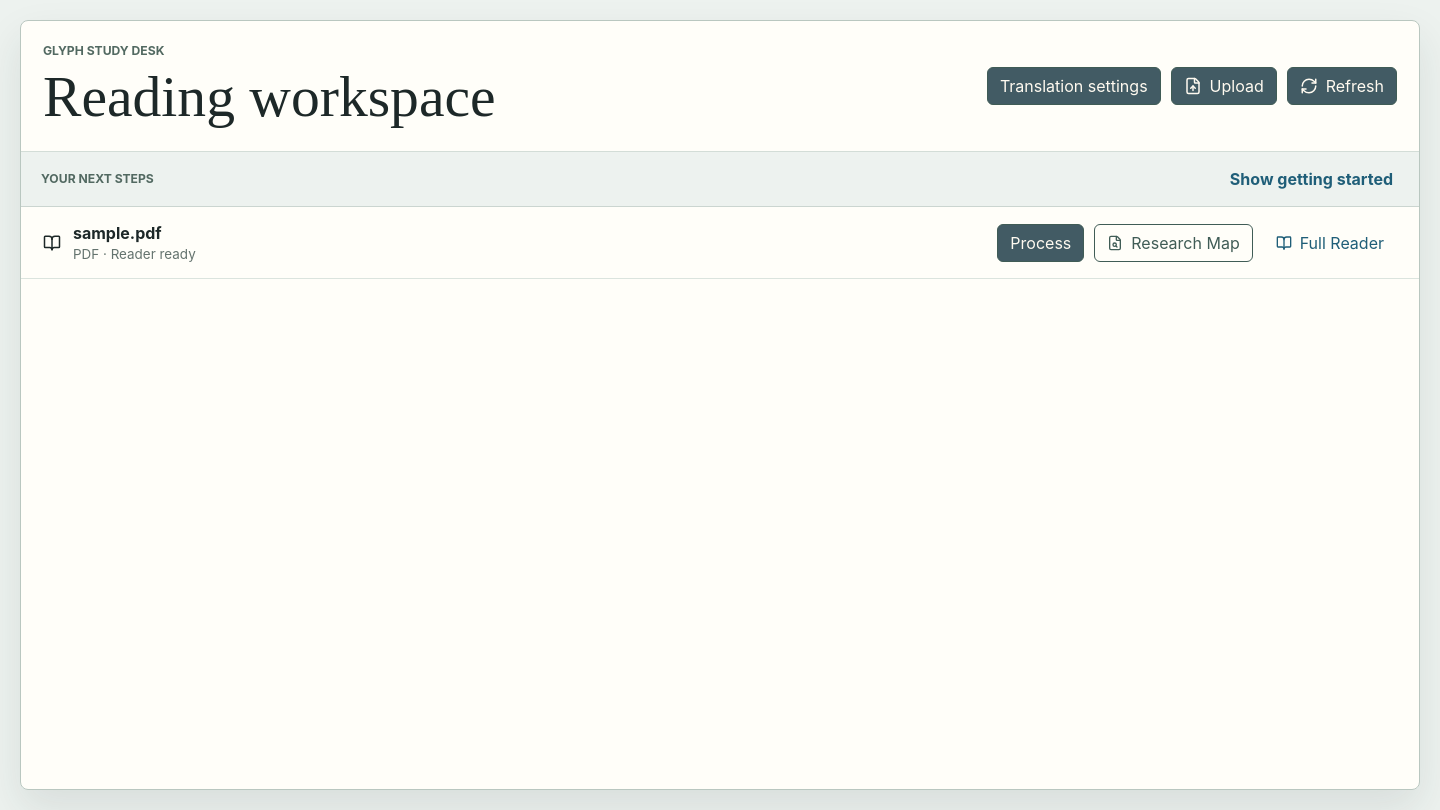
Scenario: App › shows a processing conflict without claiming success
Click the button with aria-label "Process sample.pdf" at [1041, 242], box [997, 224, 1084, 262]
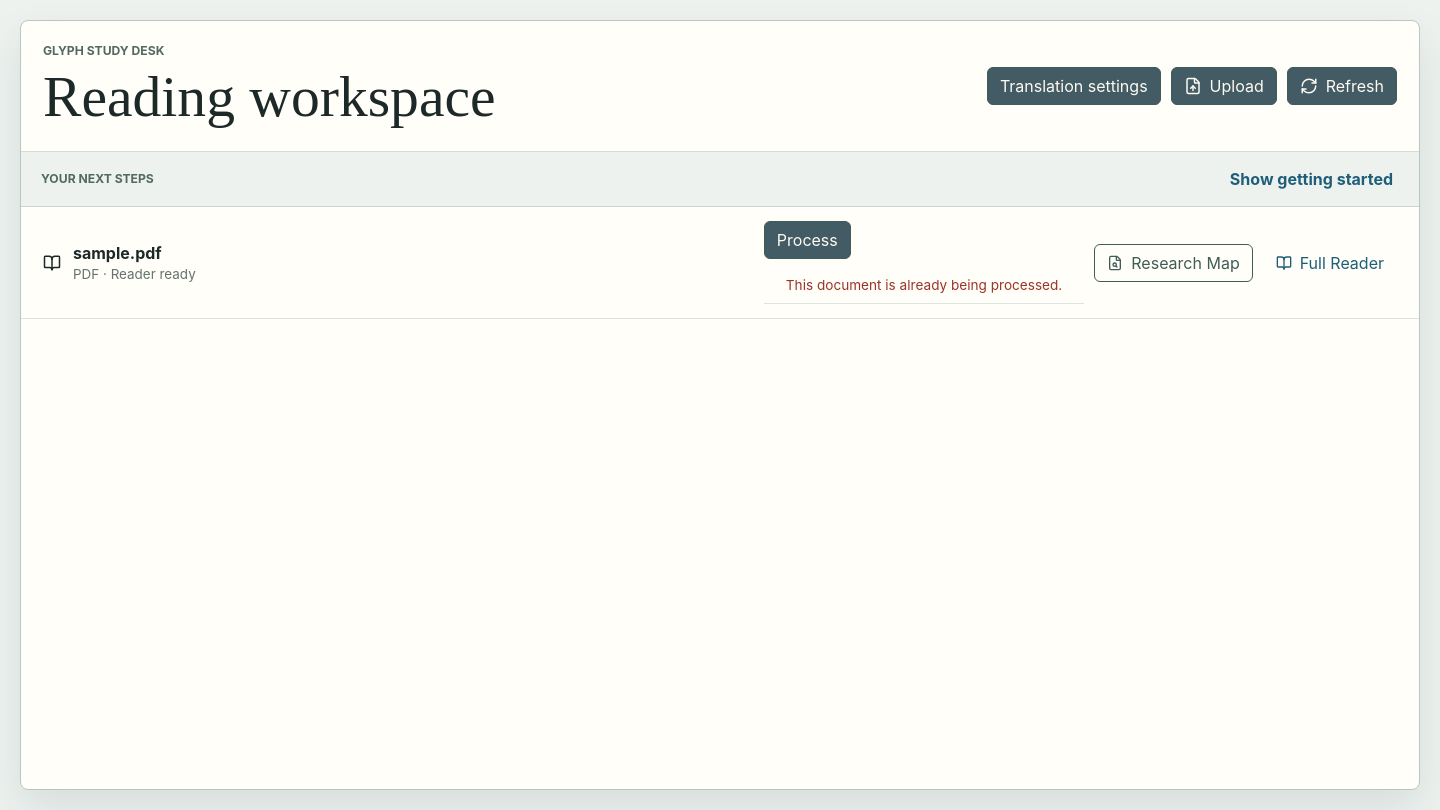
Expected: the text "This document is already being processed." is shown, [764, 267, 1084, 304]
